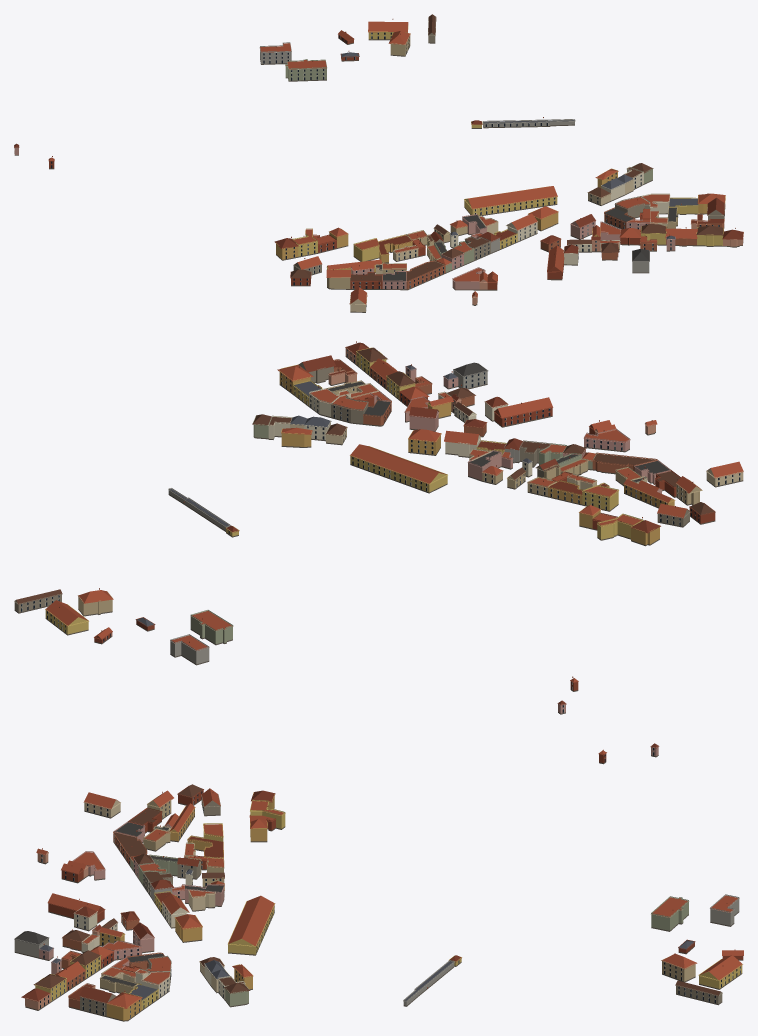
Rendered from Budynki_3_1.fbx.
The picture shows the model from 3 angles, top to bottom: view 1: azimuth 30°, elevation 25°; view 2: azimuth 150°, elevation 25°; view 3: azimuth 270°, elevation 25°; orthographic projection. The views are drawn at different scales.
Visible parts, largest first — view 1: Bud_350960757, Bud_287314870, Bud_350960851, Bud_1088271889, Bud_287314877, Bud_287314873, Bud_350960722, Bud_350960696, Bud_350960763, Bud_350960706, Bud_350960822, Bud_350960697 (+2 smaller); view 2: Bud_350960757, Bud_350960822, Bud_287314870, Bud_287314877, Bud_287314873, Bud_350960851, Bud_350960749, Bud_350960763, Bud_268635471, Bud_350960781, Bud_350960722, Bud_350960697 (+13 smaller); view 3: Bud_350960757, Bud_287314870, Bud_287314877, Bud_350960765, Bud_350960822, Bud_268635471, Bud_287314873, Bud_350960751, Bud_350960764, Bud_287314876, Bud_350960867, Bud_350960740 (+21 smaller).
Part boxes in pixels (<box>): Bud_350960757: <box>464,186,557,215</box>; Bud_287314870: <box>285,59,327,81</box>; Bud_350960851: <box>406,260,445,290</box>; Bud_1088271889: <box>482,117,575,128</box>; Bud_287314877: <box>368,19,408,40</box>; Bud_287314873: <box>259,42,291,64</box>; Bud_350960722: <box>505,213,537,242</box>; Bud_350960696: <box>696,222,724,246</box>; Bud_350960763: <box>452,267,485,290</box>; Bud_350960706: <box>378,234,412,263</box>; Bud_350960822: <box>547,245,564,280</box>; Bud_350960697: <box>353,238,379,261</box>; Bud_350960757: <box>350,444,447,493</box>; Bud_350960822: <box>494,397,553,427</box>; Bud_287314870: <box>190,610,233,645</box>; Bud_287314877: <box>45,600,88,635</box>; Bud_287314873: <box>170,634,209,665</box>; Bud_350960851: <box>592,452,657,474</box>; Bud_350960749: <box>331,394,368,424</box>; Bud_350960763: <box>583,428,630,452</box>; Bud_268635471: <box>78,588,113,616</box>; Bud_350960781: <box>597,513,643,540</box>; Bud_350960722: <box>444,430,481,457</box>; Bud_350960697: <box>582,485,618,511</box>; Bud_350960757: <box>228,895,275,955</box>; Bud_287314870: <box>651,896,689,931</box>; Bud_287314877: <box>698,955,742,989</box>; Bud_350960765: <box>106,990,142,1021</box>; Bud_350960822: <box>47,893,105,923</box>; Bud_268635471: <box>661,953,697,982</box>; Bud_287314873: <box>710,894,739,926</box>; Bud_350960751: <box>79,986,116,1017</box>; Bud_350960764: <box>83,792,120,818</box>; Bud_287314876: <box>675,980,722,1005</box>; Bud_350960867: <box>14,931,49,958</box>; Bud_350960740: <box>174,914,202,942</box>.
Size of the model in its own units: 444 by 16.7 by 510.
